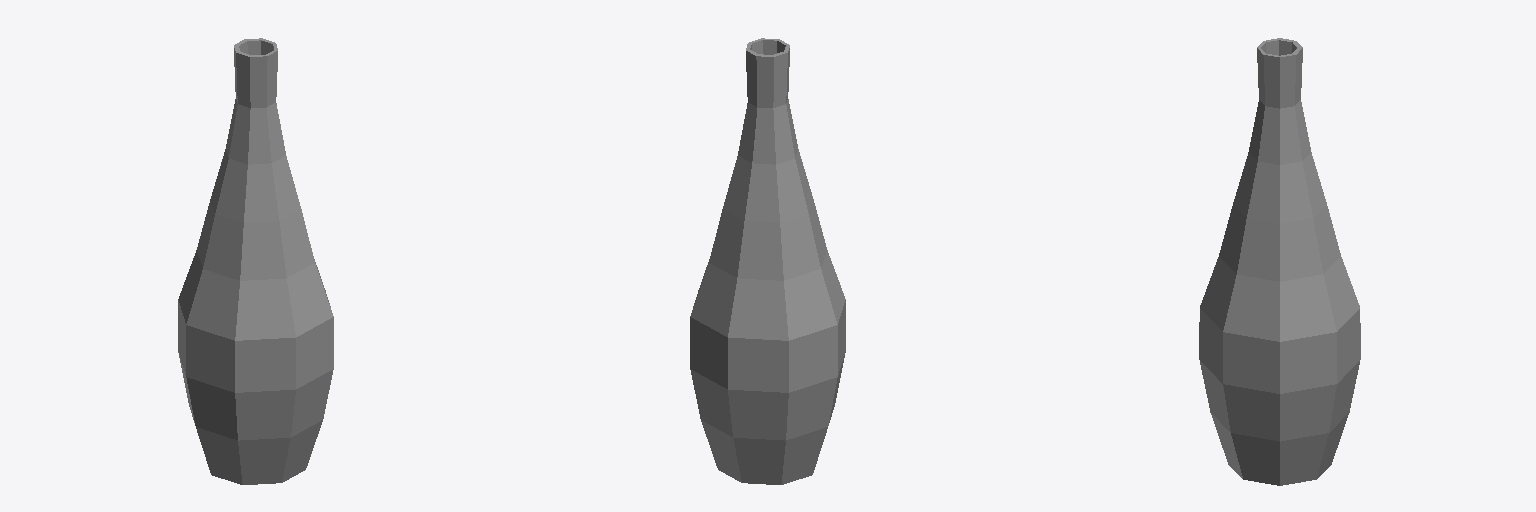
Rendered from tall_vase.obj.
3 views of the same model, side by side, from view 1: azimuth 30°, elevation 25°; view 2: azimuth 150°, elevation 25°; view 3: azimuth 270°, elevation 25° (orthographic).
Parts seen in each view (by area): view 1: tall.vase; view 2: tall.vase; view 3: tall.vase.
Boxes of the visible parts, box(x1,y1,x2,y2) form: tall.vase: box(178, 38, 333, 484); tall.vase: box(690, 38, 845, 484); tall.vase: box(1199, 38, 1360, 485).
Bounding box in the file's own units: 0.5257 × 1.5 × 0.5257.